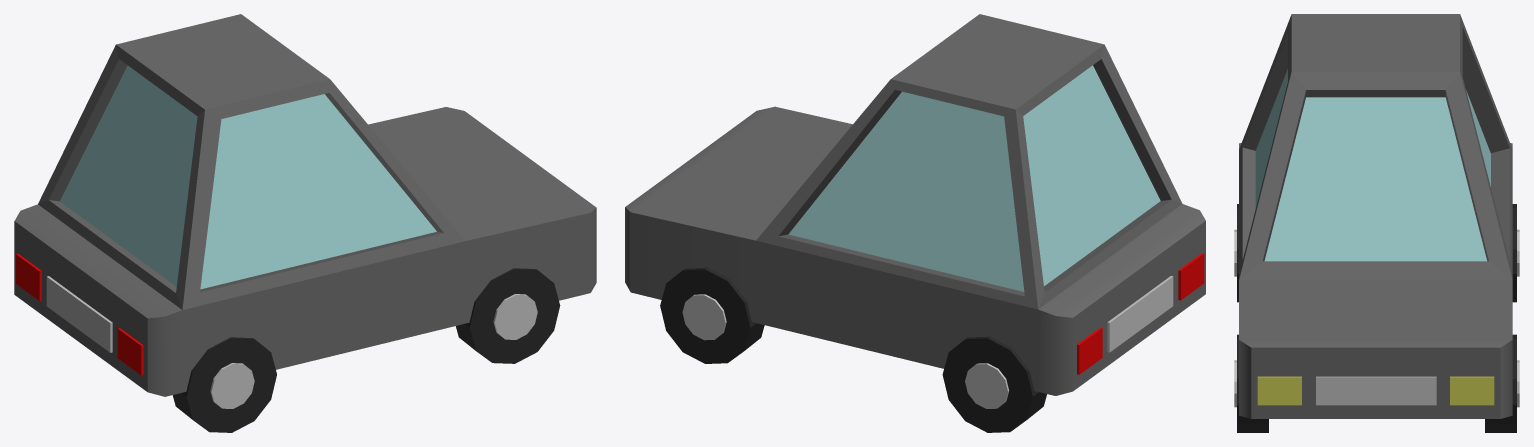
File: Carro2.fbx
3 views of the same model, side by side, from view 1: azimuth 30°, elevation 25°; view 2: azimuth 150°, elevation 25°; view 3: azimuth 270°, elevation 25° (orthographic). The views are drawn at different scales.
Parts seen in each view (by area): view 1: pCube88; view 2: pCube88; view 3: pCube88.
Boxes of the visible parts, <box> form: pCube88: <box>14,14,596,432</box>; pCube88: <box>625,14,1205,432</box>; pCube88: <box>1234,14,1519,432</box>.
Bounding box in the file's own units: 3.1 × 1.97 × 1.78.
